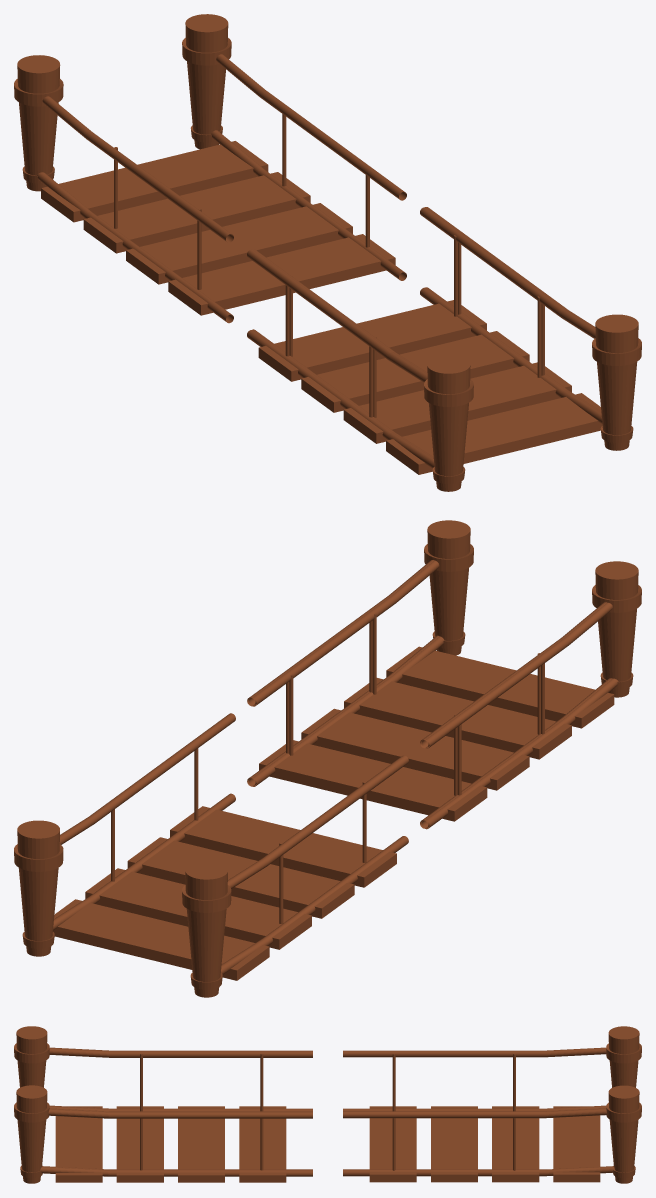
The model's file is Broken_Bridge.fbx.
3 views of the same model, one above another, from view 1: azimuth 30°, elevation 25°; view 2: azimuth 150°, elevation 25°; view 3: azimuth 270°, elevation 25° (orthographic). The views are drawn at different scales.
Visible parts, largest first — view 1: Cube.001, Cube.002; view 2: Cube.002, Cube.001; view 3: Cube.002, Cube.001.
Boxes of the visible parts, left/top/right/bottom form: Cube.001: left=14, top=14, right=406, bottom=323; Cube.002: left=247, top=207, right=641, bottom=491; Cube.002: left=247, top=520, right=641, bottom=829; Cube.001: left=14, top=713, right=408, bottom=997; Cube.002: left=14, top=1026, right=312, bottom=1183; Cube.001: left=343, top=1026, right=641, bottom=1183.
Bounding box in the file's own units: 359 × 198 × 1280.
